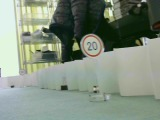speed_20: (80, 34, 105, 58)
